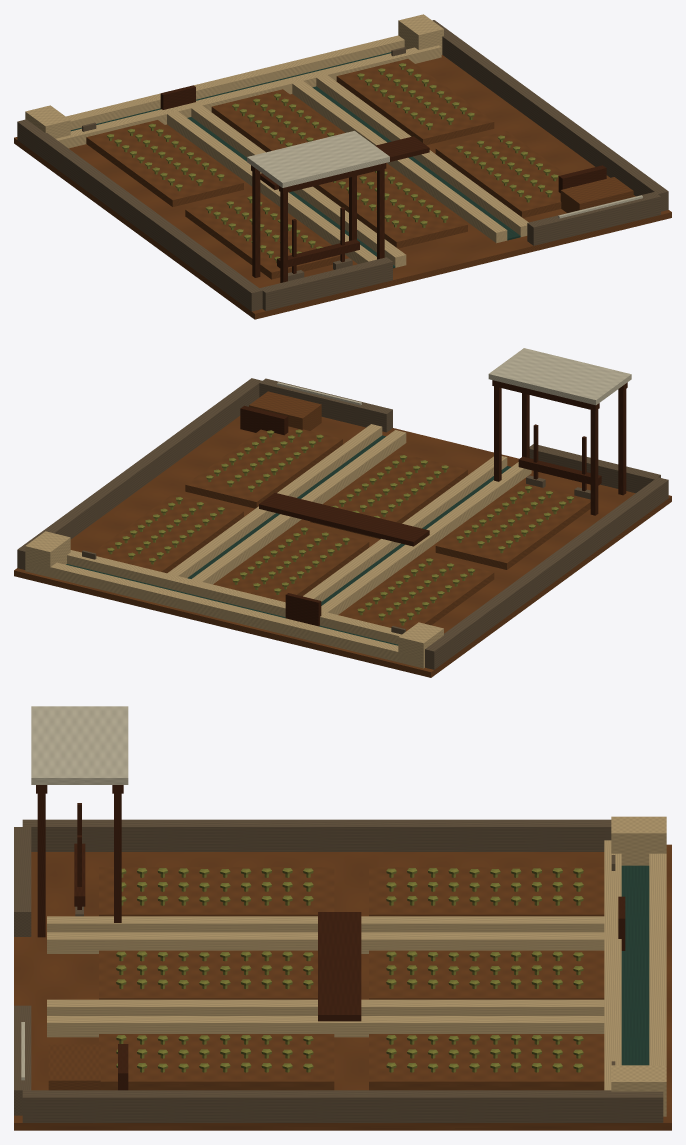
The model's file is Berber_Farm_Age4_depleted.fbx.
3 renders of one model, top to bottom at view 1: azimuth 30°, elevation 25°; view 2: azimuth 150°, elevation 25°; view 3: azimuth 270°, elevation 25°, orthographic. The views are drawn at different scales.
Visible parts, largest first — view 1: flat_earth_plot, low_side_edging, raised_bed_0_1, low_side_edging.001, raised_bed_2_1, raised_bed_2_0, raised_bed_1_0, raised_bed_0_0, header_channel_bank.001, woven_tool_shade, header_channel_bank, raised_bed_1_1 (+21 smaller); view 2: flat_earth_plot, low_side_edging, header_channel_bank.001, raised_bed_0_0, low_side_edging.001, raised_bed_2_0, raised_bed_2_1, raised_bed_0_1, raised_bed_1_1, raised_bed_1_0, woven_tool_shade, header_channel_bank (+21 smaller); view 3: flat_earth_plot, low_side_edging.001, low_side_edging, raised_bed_2_1, raised_bed_2_0, branch_channel_bank.003, raised_bed_0_1, raised_bed_1_1, branch_channel_bank.001, raised_bed_0_0, raised_bed_1_0, branch_channel_bank.002 (+13 smaller).
Boxes of the visible parts, bbox=[...] form: flat_earth_plot: bbox=[14, 55, 671, 319]; low_side_edging: bbox=[17, 119, 262, 311]; raised_bed_0_1: bbox=[86, 120, 243, 206]; low_side_edging.001: bbox=[432, 20, 668, 211]; raised_bed_2_1: bbox=[336, 59, 494, 145]; raised_bed_2_0: bbox=[435, 131, 565, 217]; raised_bed_1_0: bbox=[313, 165, 467, 248]; raised_bed_0_0: bbox=[185, 193, 340, 279]; header_channel_bank.001: bbox=[66, 35, 404, 129]; woven_tool_shade: bbox=[247, 131, 389, 187]; header_channel_bank: bbox=[56, 45, 441, 148]; raised_bed_1_1: bbox=[211, 89, 342, 152]; flat_earth_plot: bbox=[14, 416, 671, 677]; low_side_edging: bbox=[425, 477, 668, 669]; header_channel_bank.001: bbox=[30, 562, 418, 666]; raised_bed_0_0: bbox=[435, 483, 590, 569]; low_side_edging.001: bbox=[17, 378, 262, 569]; raised_bed_2_0: bbox=[185, 426, 342, 508]; raised_bed_2_1: bbox=[93, 494, 243, 573]; raised_bed_0_1: bbox=[340, 555, 494, 631]; raised_bed_1_1: bbox=[215, 524, 369, 602]; raised_bed_1_0: bbox=[310, 452, 467, 539]; woven_tool_shade: bbox=[488, 348, 631, 405]; header_channel_bank: bbox=[67, 550, 401, 644]; flat_earth_plot: bbox=[14, 844, 671, 1130]; low_side_edging.001: bbox=[22, 1090, 663, 1122]; low_side_edging: bbox=[22, 819, 611, 851]; raised_bed_2_1: bbox=[369, 1034, 604, 1090]; raised_bed_2_0: bbox=[99, 1034, 334, 1090]; branch_channel_bank.003: bbox=[47, 1016, 604, 1037]; raised_bed_0_1: bbox=[369, 867, 604, 916]; raised_bed_1_1: bbox=[369, 950, 604, 999]; branch_channel_bank.001: bbox=[47, 932, 604, 953]; raised_bed_0_0: bbox=[99, 867, 334, 916]; raised_bed_1_0: bbox=[99, 950, 317, 999]; branch_channel_bank.002: bbox=[47, 999, 604, 1015].
Bounding box in the file's own units: 380 × 108 × 380.
Materials: 7 (7 with a texture image).
